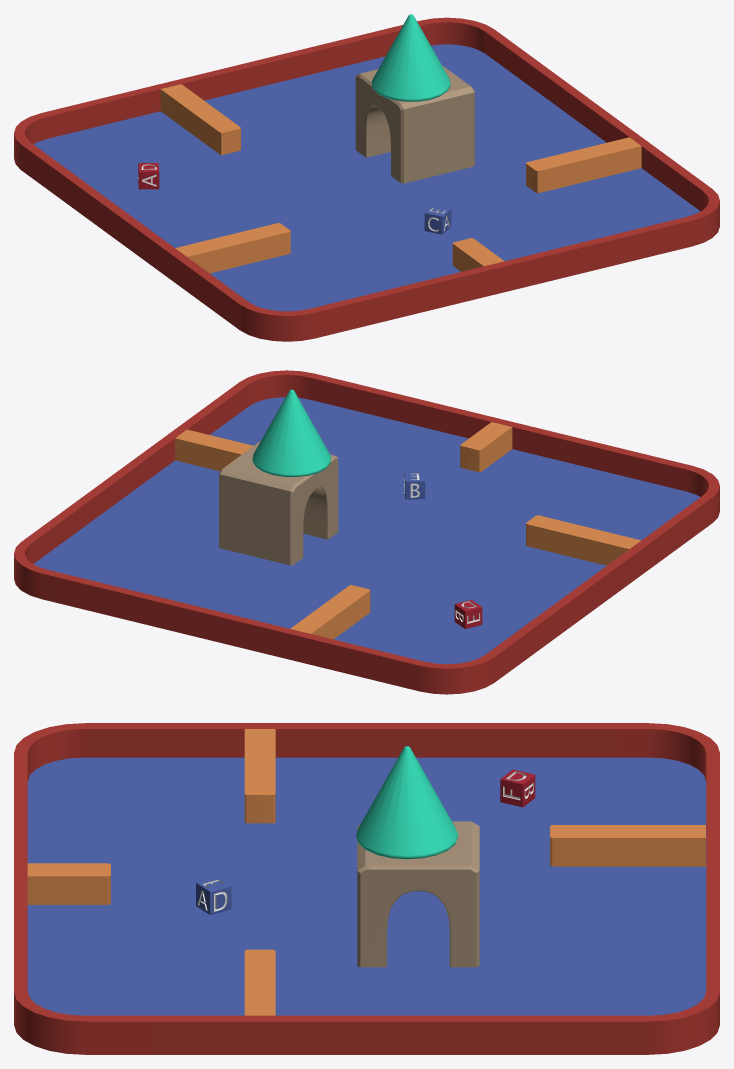
The model's file is Arena.fbx.
3 views of the same model, one above another, from view 1: azimuth 30°, elevation 25°; view 2: azimuth 150°, elevation 25°; view 3: azimuth 270°, elevation 25° (orthographic). The views are drawn at different scales.
Parts seen in each view (by area): view 1: Plane, Bounds, Arch, CyanCone, obstacle00, obstacle01, obstacle04, obstacle03, LetterCubeBlue, LetterCubeRed; view 2: Plane, Bounds, Arch, CyanCone, obstacle01, obstacle04, obstacle00, obstacle03, LetterCubeRed, LetterCubeBlue; view 3: Plane, Bounds, Arch, CyanCone, obstacle04, obstacle03, obstacle01, obstacle00, LetterCubeBlue, LetterCubeRed.
Part boxes in pixels (<box>): Plane: <box>33,44,700,311</box>; Bounds: <box>14,17,719,341</box>; Arch: <box>355,65,474,183</box>; CyanCone: <box>371,14,450,101</box>; obstacle00: <box>526,137,641,193</box>; obstacle01: <box>175,223,290,273</box>; obstacle04: <box>160,84,240,154</box>; obstacle03: <box>452,238,504,271</box>; LetterCubeBlue: <box>424,205,451,234</box>; LetterCubeRed: <box>138,163,159,189</box>; Plane: <box>33,397,700,664</box>; Bounds: <box>14,370,719,694</box>; Arch: <box>219,441,338,565</box>; CyanCone: <box>252,389,331,476</box>; obstacle01: <box>526,515,640,565</box>; obstacle04: <box>290,585,370,639</box>; obstacle00: <box>175,429,253,471</box>; obstacle03: <box>460,422,512,472</box>; LetterCubeRed: <box>454,600,482,628</box>; LetterCubeBlue: <box>404,472,425,499</box>; Plane: <box>27,757,706,1015</box>; Bounds: <box>14,723,719,1054</box>; Arch: <box>357,821,479,967</box>; CyanCone: <box>356,746,458,859</box>; obstacle04: <box>550,825,705,866</box>; obstacle03: <box>27,863,110,904</box>; obstacle01: <box>244,729,275,823</box>; obstacle00: <box>244,949,275,1015</box>; LetterCubeBlue: <box>196,876,231,914</box>; LetterCubeRed: <box>500,769,535,807</box>.
Size of the model in its own units: 21.3 by 6.54 by 21.3.
